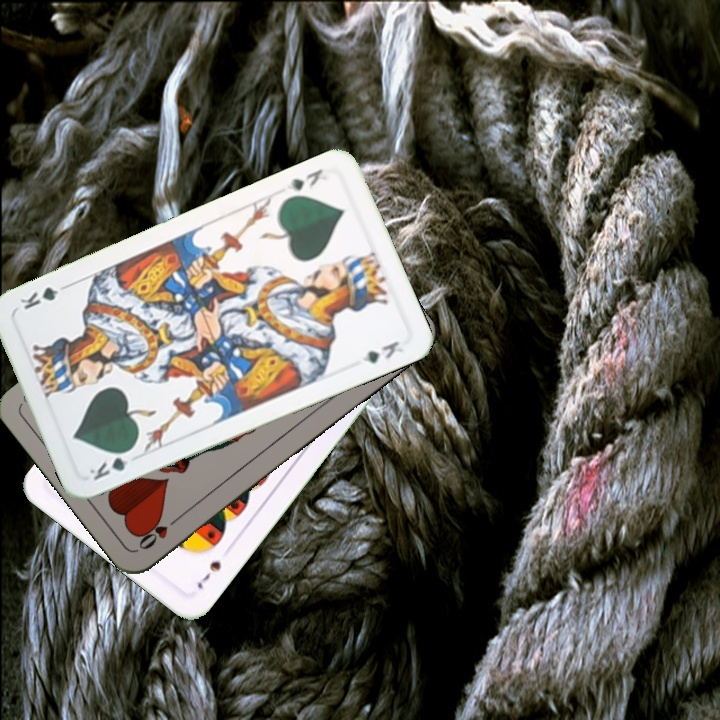GK: (85, 444, 137, 483), (282, 165, 333, 194)
HO: (134, 511, 184, 553)
S7: (193, 557, 224, 592)
